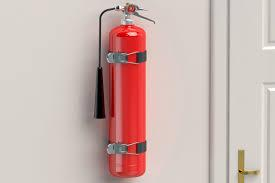Fire Extinguisher: (87, 1, 156, 183)
